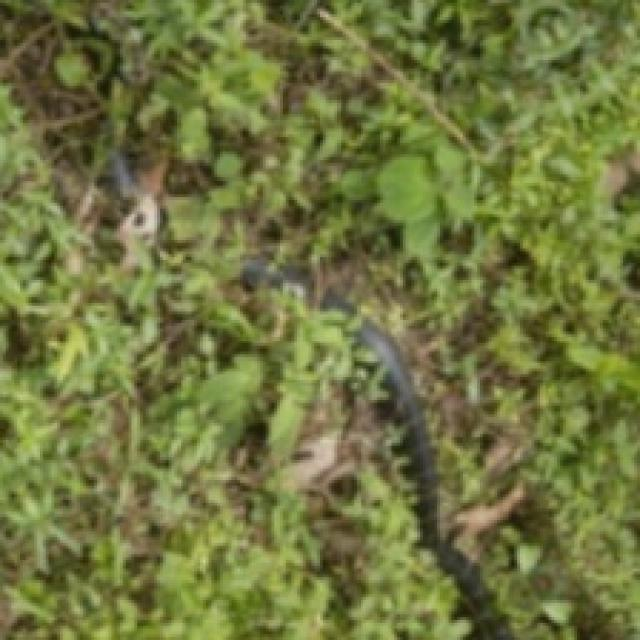king cobra: (357, 320, 511, 637)
